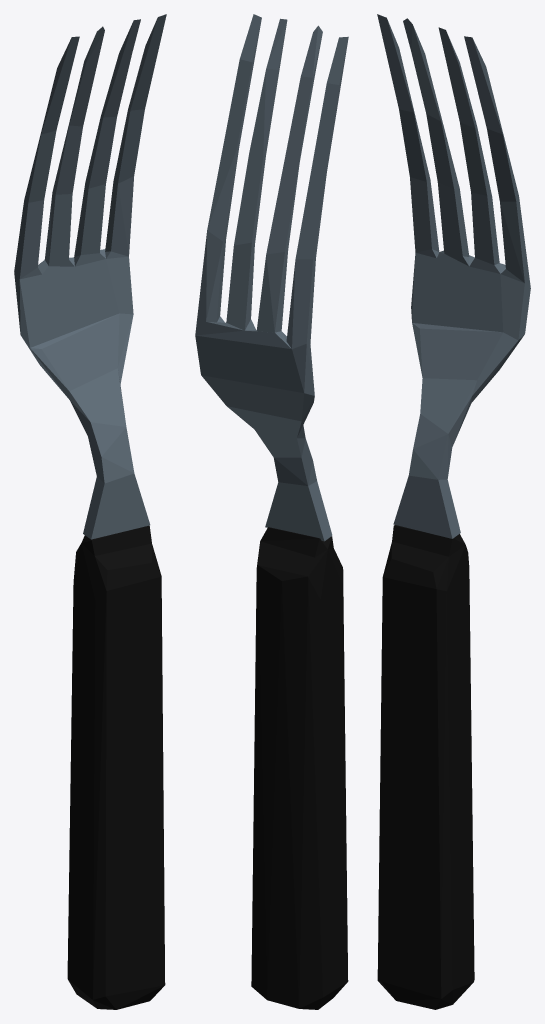
File: Fork01.fbx
3 views of the same model, side by side, from view 1: azimuth 30°, elevation 25°; view 2: azimuth 150°, elevation 25°; view 3: azimuth 330°, elevation 25° (orthographic).
Visible parts, largest first — view 1: Fork01LowPoly; view 2: Fork01LowPoly; view 3: Fork01LowPoly.
Part boxes in pixels (left/top/right/bottom): Fork01LowPoly: left=14, top=14, right=166, bottom=1009; Fork01LowPoly: left=195, top=14, right=348, bottom=1009; Fork01LowPoly: left=377, top=14, right=530, bottom=1009.
Bounding box in the file's own units: 2.35 × 19.85 × 2.43.
